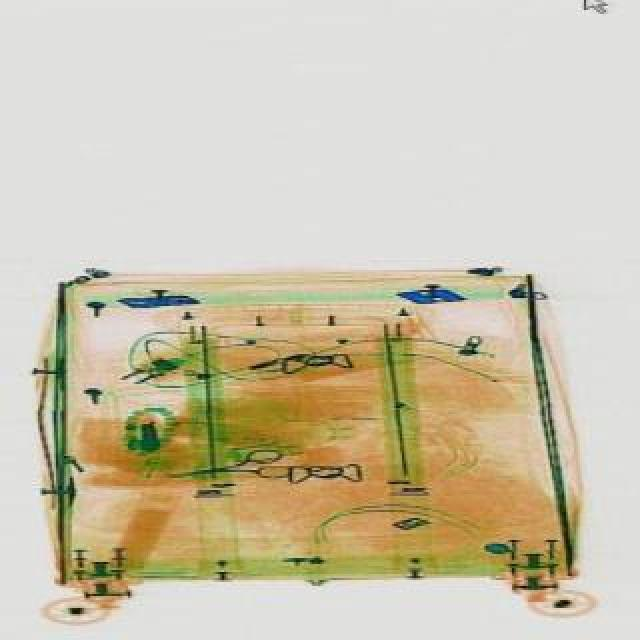pliers: (158, 444, 286, 492)
